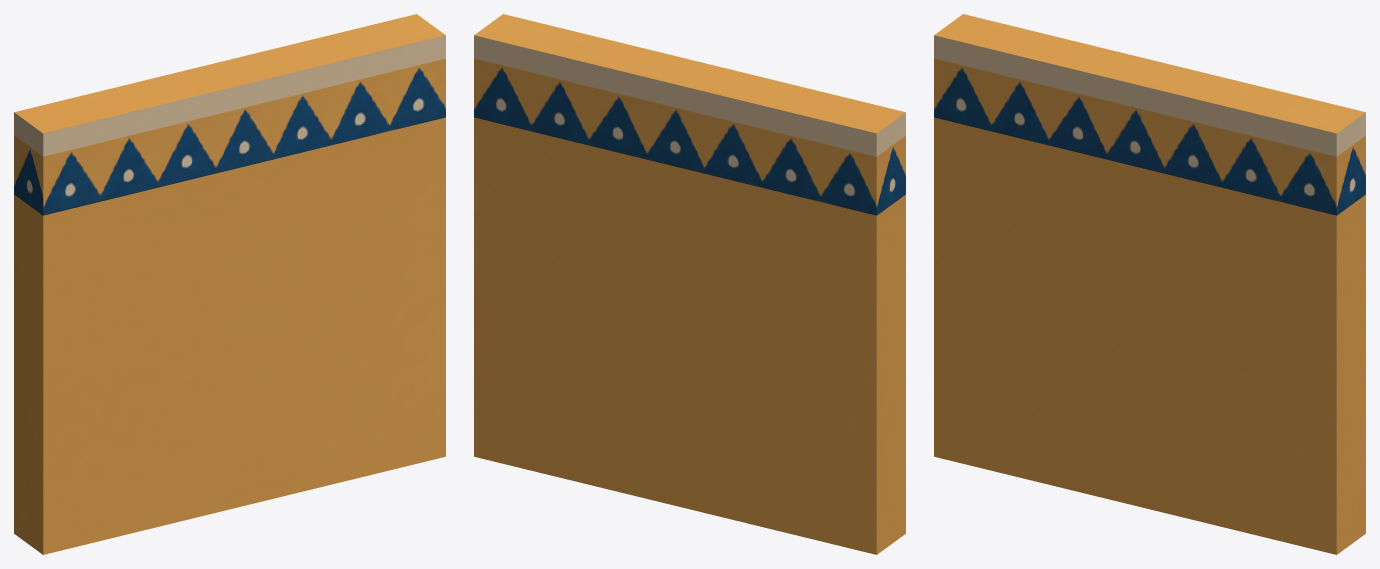
Rendered from rc_wa_wall_4x4.glb.
The picture shows the model from 3 angles, left to right: view 1: azimuth 30°, elevation 25°; view 2: azimuth 150°, elevation 25°; view 3: azimuth 330°, elevation 25°; orthographic projection.
Visible parts, largest first — view 1: SM_RC_WA_Wall_4x4; view 2: SM_RC_WA_Wall_4x4; view 3: SM_RC_WA_Wall_4x4.
Boxes of the visible parts, x1,y1,x2,y2 form: SM_RC_WA_Wall_4x4: (14,14,445,554); SM_RC_WA_Wall_4x4: (474,14,905,554); SM_RC_WA_Wall_4x4: (934,14,1365,554).
Bounding box in the file's own units: 4 × 4 × 0.5.
Materials: 1 (1 with a texture image).
